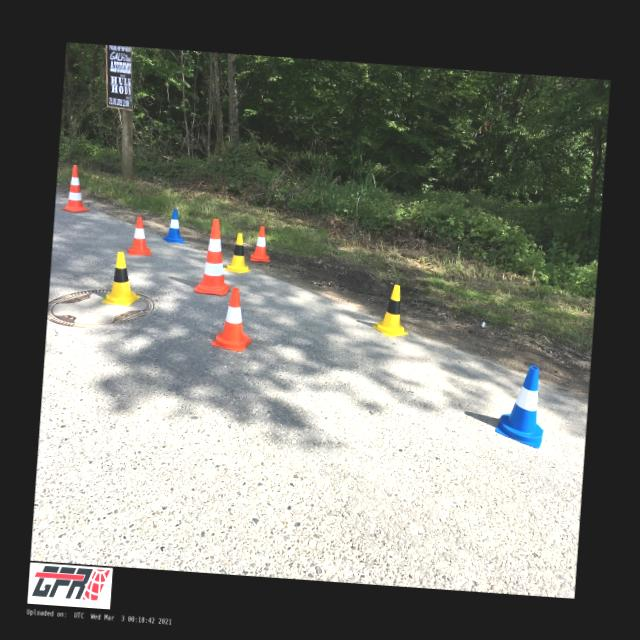blue_cone: (494, 362, 547, 448), (162, 208, 187, 242)
large_orange_cone: (193, 218, 234, 296), (61, 163, 91, 212)
orange_cone: (210, 286, 256, 351), (126, 215, 154, 255), (250, 226, 272, 262)
yellow_cone: (100, 250, 142, 306), (371, 282, 411, 338), (223, 232, 254, 274)
